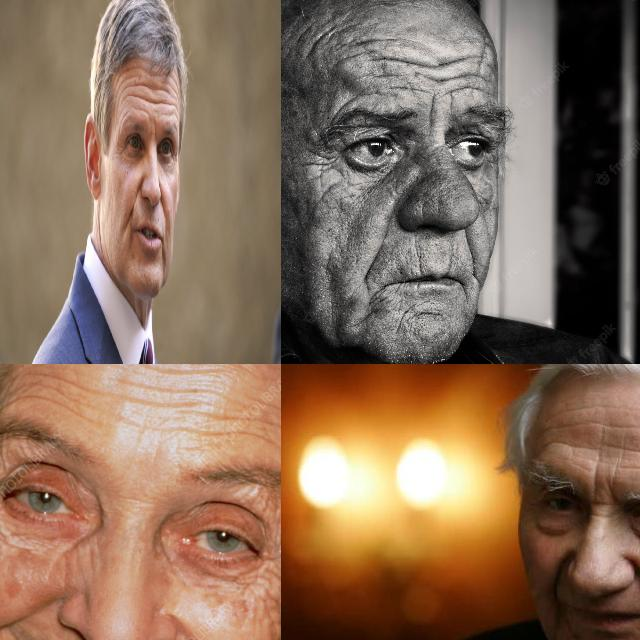chin: (389, 302, 439, 328)
crows_feet: (308, 142, 340, 180), (262, 540, 281, 601), (116, 136, 125, 161)
forehead: (112, 377, 192, 433), (214, 403, 281, 454), (424, 52, 490, 94), (20, 364, 77, 410), (354, 33, 414, 73), (595, 423, 640, 474), (543, 421, 585, 453), (308, 25, 340, 61), (132, 64, 144, 100), (158, 82, 170, 114), (116, 71, 130, 97), (146, 76, 154, 112), (171, 79, 178, 117)
frown_line: (586, 475, 618, 505), (423, 94, 441, 132), (153, 120, 158, 138)
gummy_smile: (363, 210, 392, 280), (179, 617, 228, 640), (460, 230, 482, 278), (549, 556, 567, 598), (632, 561, 640, 600), (131, 178, 139, 214), (160, 190, 167, 214)
sad_smile: (359, 289, 387, 329)
smoker_lines: (3, 585, 61, 633)
